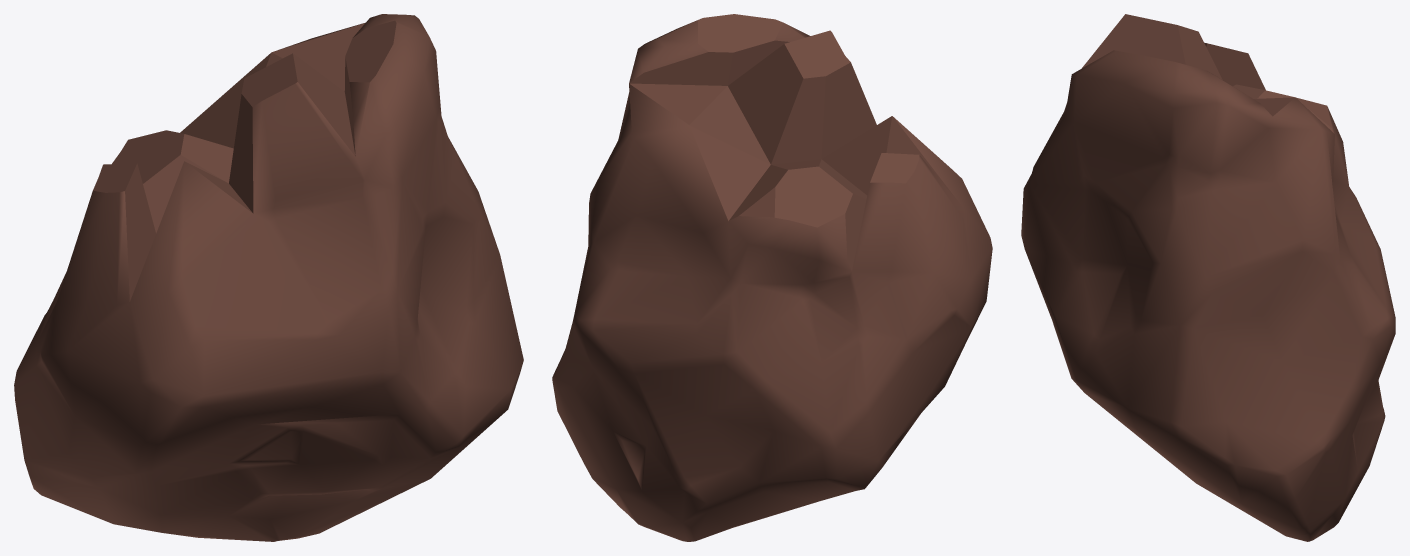
File: p_mesh_hvs_stalagmite_large_destruction_part02.fbx
The picture shows the model from 3 angles, left to right: view 1: azimuth 30°, elevation 25°; view 2: azimuth 150°, elevation 25°; view 3: azimuth 270°, elevation 25°; orthographic projection. The views are drawn at different scales.
Visible parts, largest first — view 1: p_large_part2; view 2: p_large_part2; view 3: p_large_part2.
Boxes of the visible parts, x1,y1,x2,y2 form: p_large_part2: (14, 14, 523, 541); p_large_part2: (552, 14, 992, 541); p_large_part2: (1021, 14, 1395, 541).
Size of the model in its own units: 6.19 by 7.26 by 5.14.
